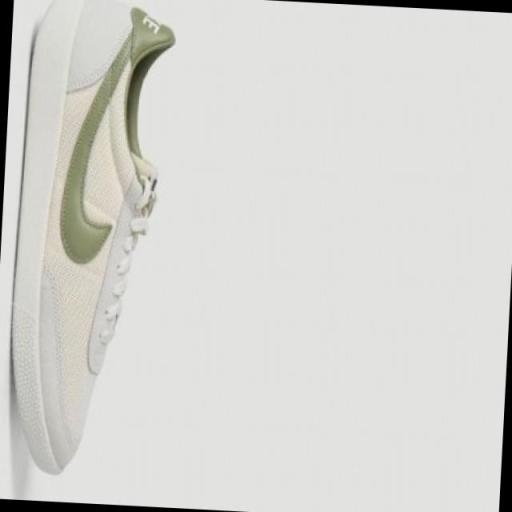Nike: (48, 18, 140, 276)
